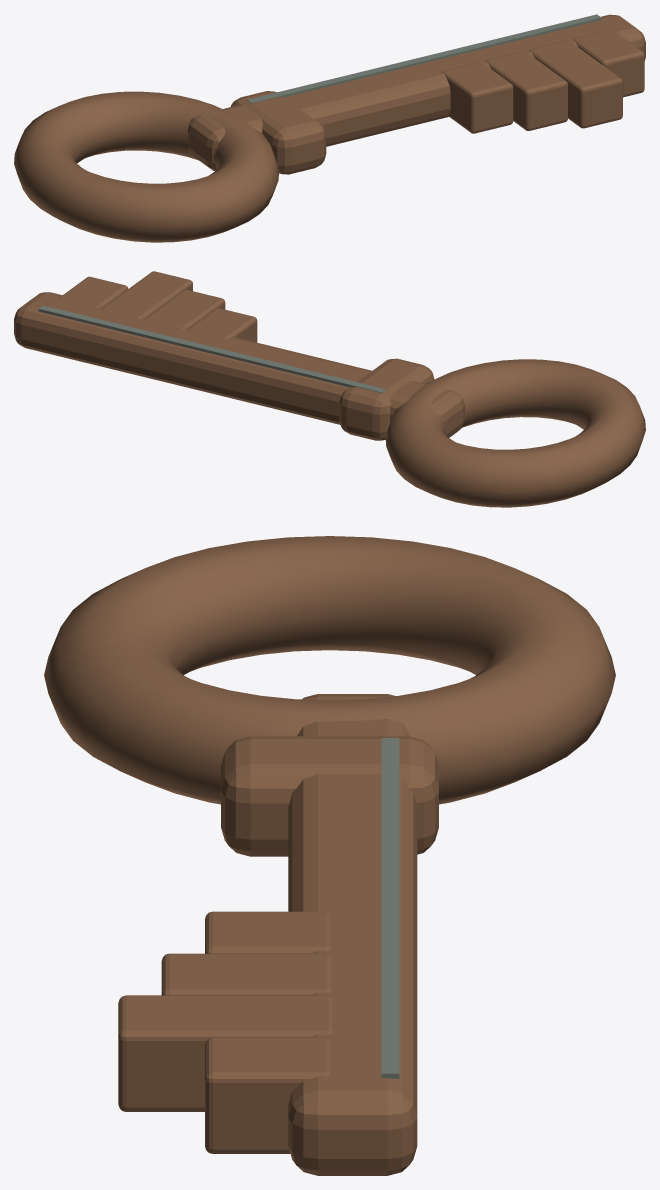
File: archive_key.glb
The picture shows the model from 3 angles, top to bottom: view 1: azimuth 30°, elevation 25°; view 2: azimuth 150°, elevation 25°; view 3: azimuth 270°, elevation 25°; orthographic projection. The views are drawn at different scales.
Parts seen in each view (by area): view 1: archive_key; view 2: archive_key; view 3: archive_key.
Part boxes in pixels (x1,y1,x2,y2): archive_key: [14, 14, 645, 242]; archive_key: [14, 271, 645, 507]; archive_key: [44, 536, 615, 1175].
Size of the model in its own units: 0.09 by 0.00723 by 0.0375.
